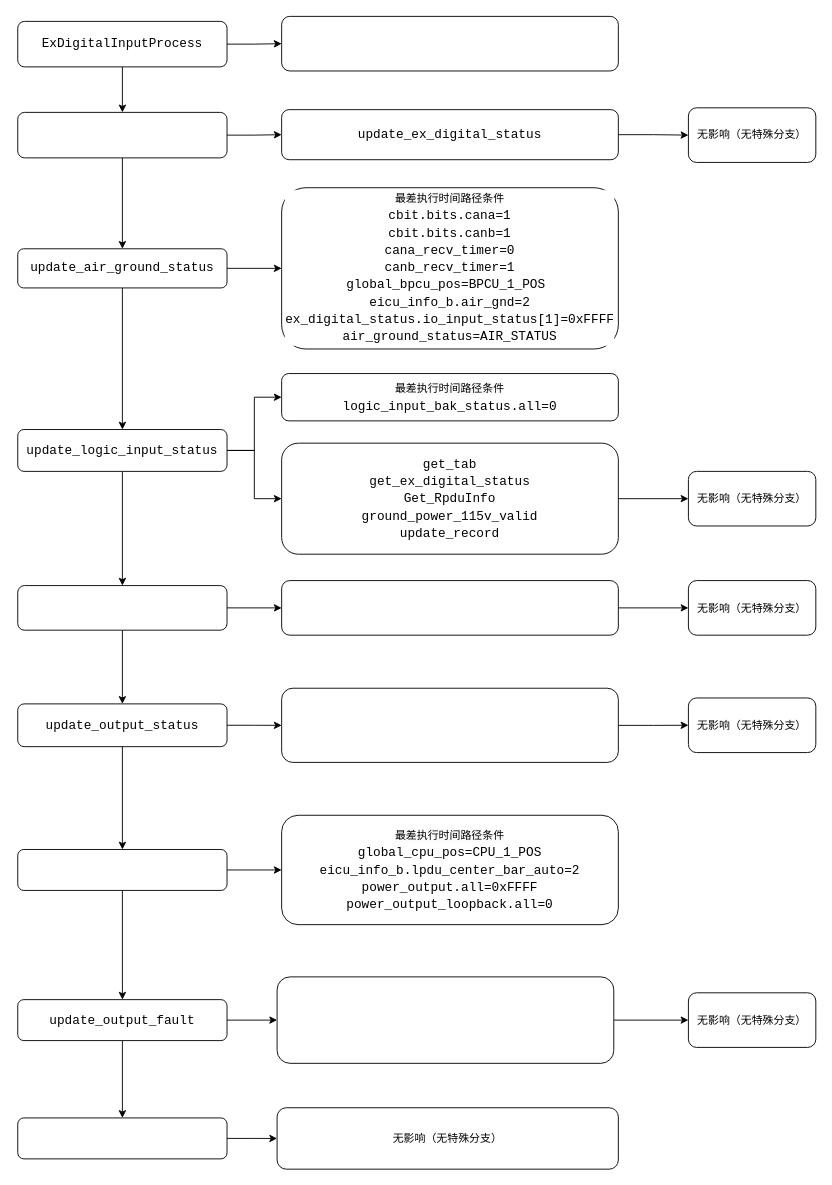
This 832x1185 diagram has some shape labels left out. The shapes that lost their labels are listed below. From the top down, each one's box as (x1, y1, x2, y2) in pixels, then its label:
(281, 15, 618, 71): 影响条件 msbspa_timeout_counts=1
(17, 111, 227, 158): ex_digital_collect
(17, 585, 227, 630): update_power_output_loopback
(281, 580, 618, 635): get_tab is_connect
(281, 687, 618, 762): is_connect set_lock update_record
(17, 849, 227, 890): update_loopback_fault
(276, 976, 614, 1063): get_eicu_info delay_condition_satisfied set_lock update_record
(17, 1117, 227, 1159): InitMcbspaGpio InitMcbspa
